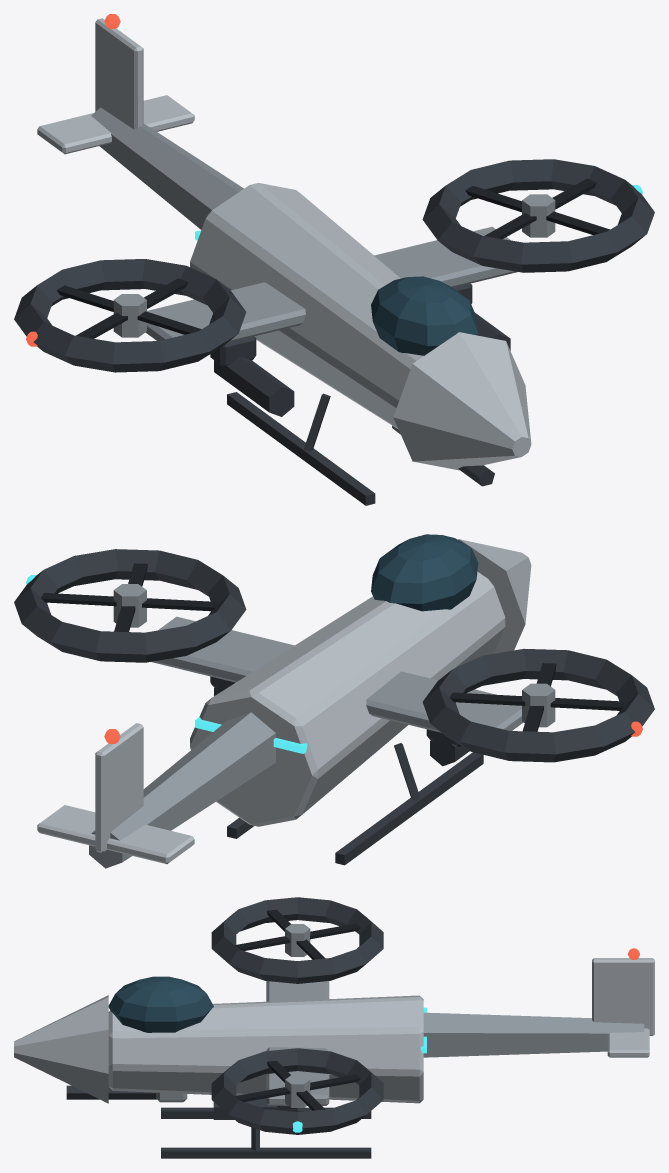
File: exo-gunship.glb
3 renders of one model, top to bottom at view 1: azimuth 30°, elevation 25°; view 2: azimuth 150°, elevation 25°; view 3: azimuth 270°, elevation 25°, orthographic. The views are drawn at different scales.
Visible parts, largest first — view 1: body; view 2: body; view 3: body.
Boxes of the visible parts, x1=… form: body: x1=14, y1=14, x2=654, y2=505; body: x1=14, y1=534, x2=654, y2=868; body: x1=14, y1=897, x2=654, y2=1158.
Size of the model in its own units: 5.1 by 1.98 by 6.1.
